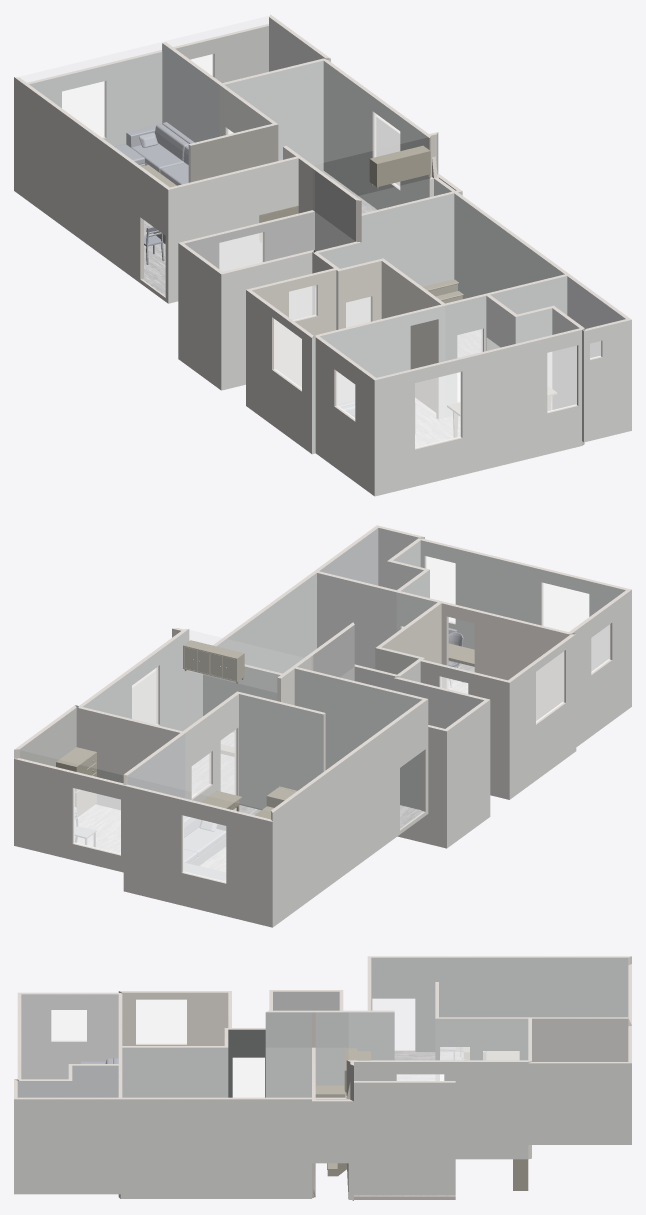
Rendered from 完整版白框.glb.
3 views of the same model, one above another, from view 1: azimuth 30°, elevation 25°; view 2: azimuth 150°, elevation 25°; view 3: azimuth 270°, elevation 25° (orthographic). The views are drawn at different scales.
Visible parts, largest first — view 1: wall_1, wall_10, ceiling_Other_1, ceiling_Living_Room_1, ceiling_Other_2, wall_11, ceiling_Living_Room_3, wall_59, ceiling_Living_Room_5, wall_34, wall_28, wall_13 (+60 smaller); view 2: wall_10, wall_48, ceiling_Living_Room_1, ceiling_Other_2, ceiling_Other_1, ceiling_Living_Room_3, wall_53, wall_50, ceiling_Living_Room_5, wall_46, wall_73, wall_13 (+65 smaller); view 3: wall_41, wall_71, wall_14, wall_43, ceiling_Other_1, wall_4, ceiling_Living_Room_1, wall_6, ceiling_Other_2, wall_107, ceiling_Living_Room_3, wall_149 (+41 smaller).
Boxes of the visible parts, box(x1,y1,x2,y2) form: wall_1: box(374, 330, 581, 496); wall_10: box(14, 77, 168, 303); ceiling_Other_1: box(361, 192, 562, 302); ceiling_Living_Room_1: box(79, 42, 295, 173); ceiling_Other_2: box(222, 61, 426, 163); wall_11: box(168, 158, 298, 303); ceiling_Living_Room_3: box(20, 63, 227, 187); wall_59: box(323, 61, 426, 209); ceiling_Living_Room_5: box(320, 306, 500, 377); wall_34: box(361, 193, 454, 323); wall_28: box(315, 337, 374, 495); wall_13: box(246, 290, 311, 453); wall_10: box(272, 699, 428, 927); wall_48: box(123, 786, 272, 927); ceiling_Living_Room_1: box(125, 668, 362, 795); ceiling_Other_2: box(82, 631, 302, 730); ceiling_Other_1: box(216, 573, 436, 673); ceiling_Living_Room_3: box(212, 686, 422, 810); wall_53: box(420, 540, 625, 670); wall_50: box(239, 694, 323, 810); ceiling_Living_Room_5: box(443, 560, 624, 631); wall_46: box(14, 759, 123, 872); wall_73: box(294, 668, 421, 810); wall_13: box(509, 634, 576, 799); wall_41: box(120, 1099, 311, 1198); wall_71: box(371, 957, 628, 1051); wall_14: box(354, 1082, 455, 1195); wall_43: box(14, 1099, 120, 1194); ceiling_Other_1: box(121, 1047, 313, 1097); wall_4: box(354, 1062, 528, 1159); ceiling_Living_Room_1: box(370, 982, 629, 1017); wall_6: box(528, 1063, 631, 1144); ceiling_Other_2: box(352, 1012, 528, 1060); wall_107: box(21, 994, 118, 1079); ceiling_Living_Room_3: box(371, 957, 629, 981); wall_149: box(122, 1047, 228, 1097).
Size of the model in its own units: 7.14 by 4.04 by 16.74.
Materials: 147 (10 with a texture image).
